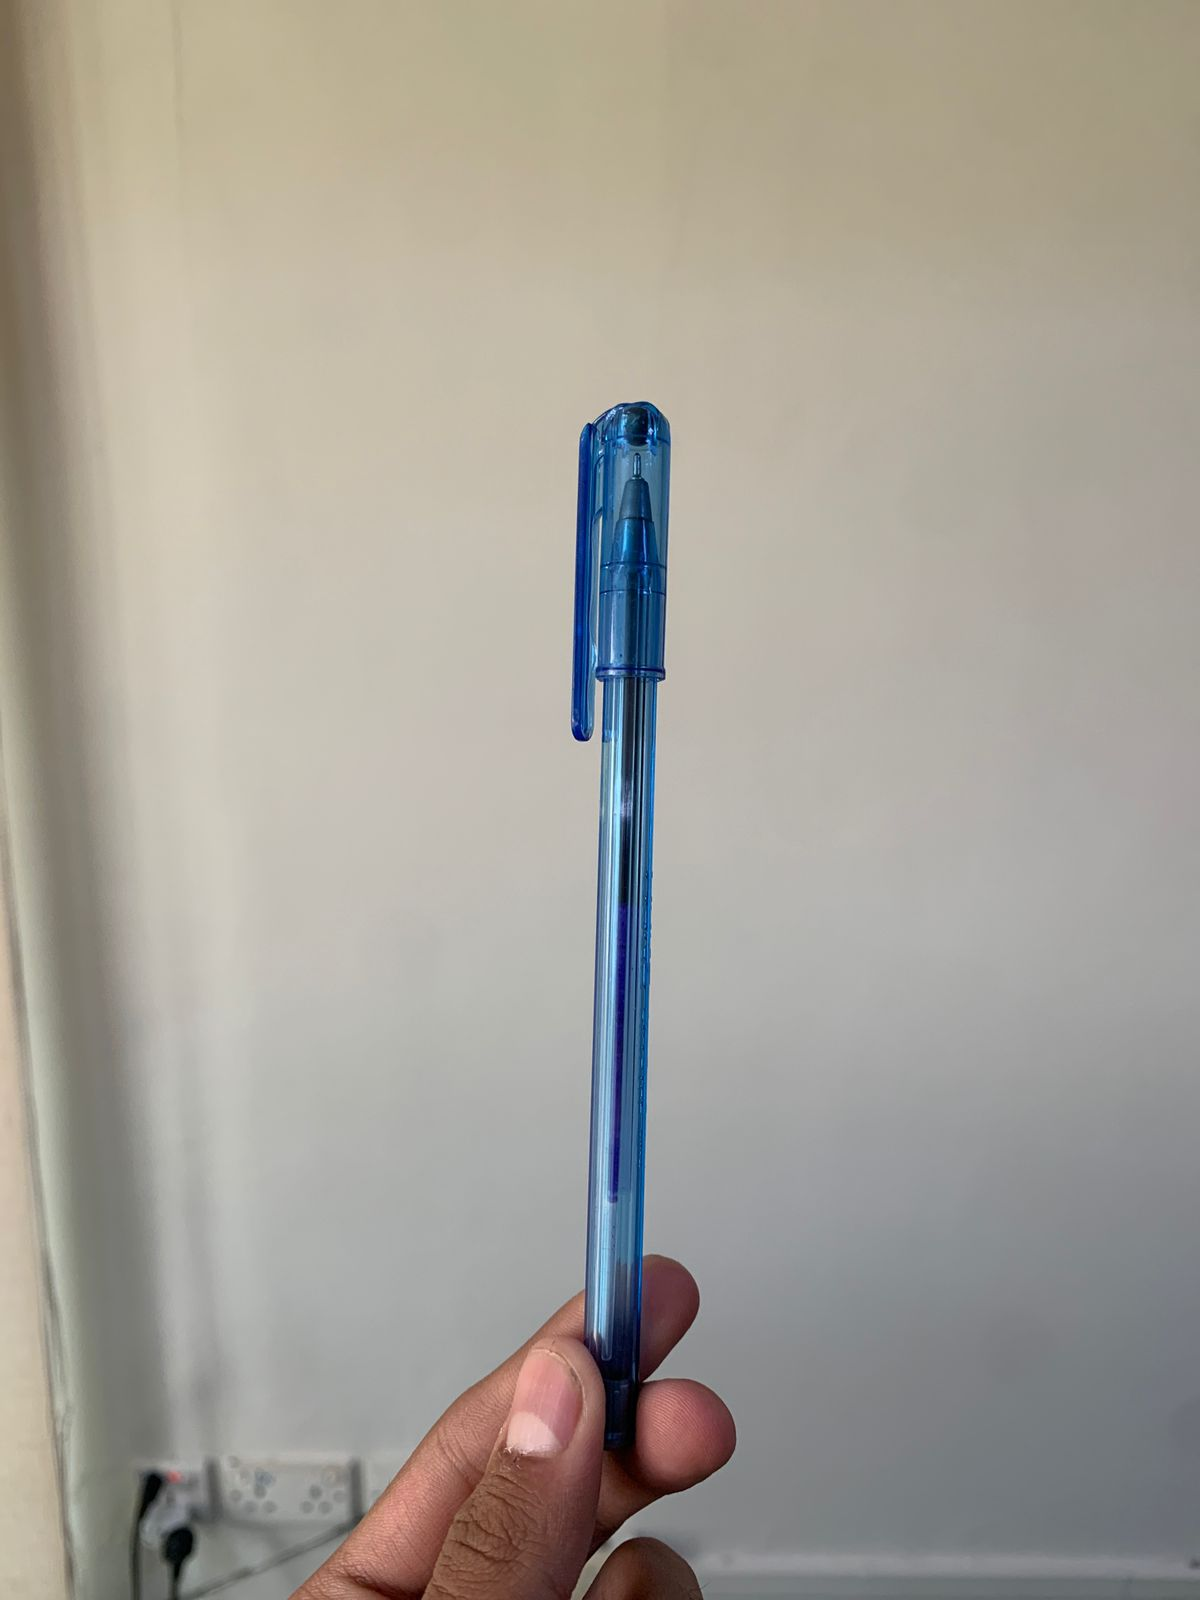pen: (482, 302, 782, 1490)
